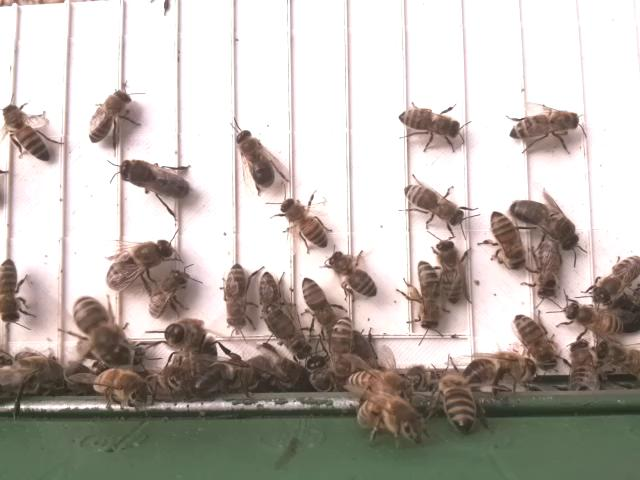Drone: (71, 295, 128, 369), (509, 196, 580, 251), (118, 157, 193, 199), (235, 127, 278, 191)
Worker: (103, 239, 175, 291), (2, 102, 54, 163), (402, 182, 465, 230), (265, 308, 314, 362), (282, 195, 330, 249), (506, 108, 584, 141), (397, 104, 464, 142), (86, 90, 133, 144), (514, 311, 557, 367), (329, 251, 379, 299), (563, 300, 623, 338), (413, 261, 445, 332), (434, 237, 467, 305), (489, 210, 525, 271), (221, 259, 250, 330), (328, 315, 358, 383), (146, 271, 187, 319), (446, 369, 475, 432), (536, 239, 563, 302), (0, 260, 26, 324), (302, 275, 333, 327), (258, 269, 281, 319)
